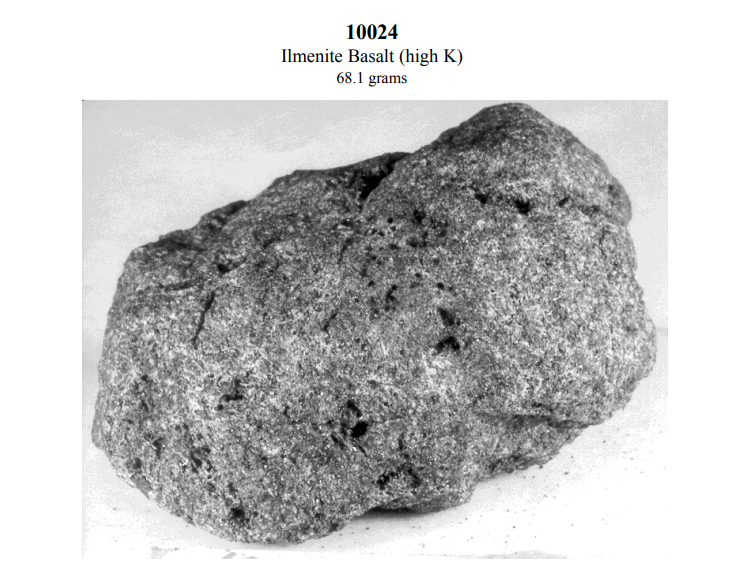Basalt: (84, 100, 665, 554)
